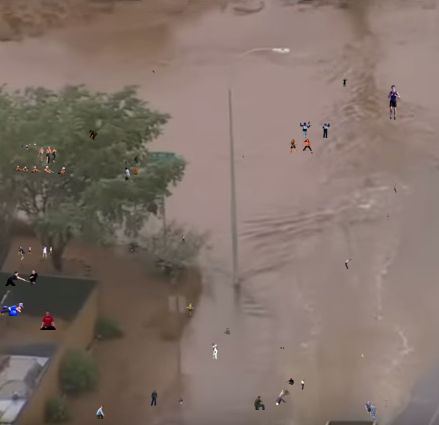Human: (15, 165, 65, 176), (5, 270, 38, 286), (150, 390, 183, 406), (31, 310, 57, 330), (300, 121, 330, 138), (18, 245, 52, 260), (387, 85, 401, 120), (365, 400, 388, 420), (288, 139, 313, 154), (37, 146, 57, 164), (121, 165, 138, 185), (1, 303, 24, 316), (276, 390, 291, 405), (254, 396, 265, 410), (185, 303, 195, 317), (88, 129, 99, 141), (96, 405, 105, 419), (125, 156, 139, 164), (21, 143, 36, 150), (212, 343, 218, 360), (391, 180, 397, 194), (345, 259, 353, 269), (224, 328, 230, 338), (286, 378, 294, 385), (343, 78, 348, 87), (301, 379, 305, 390), (181, 235, 185, 243), (387, 214, 390, 221), (361, 353, 364, 358), (241, 154, 244, 158), (273, 112, 275, 117), (131, 249, 133, 254), (280, 347, 285, 349), (152, 70, 155, 73)
